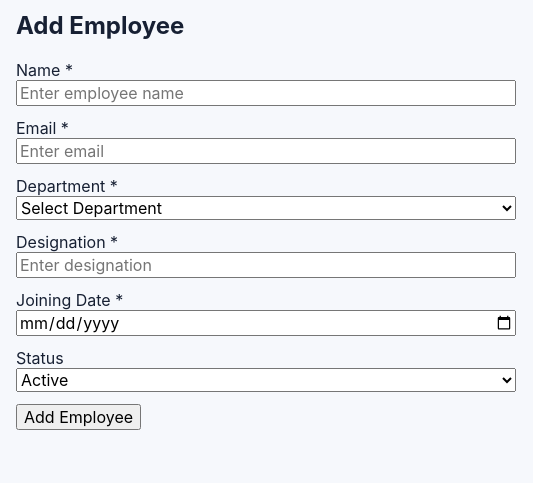
Test: EmployeeForm › adds an employee when all required fields are valid
Type "Ancy" into the field with placeholder "Enter employee name". click: (266, 93)
box: [16,80,516,106]
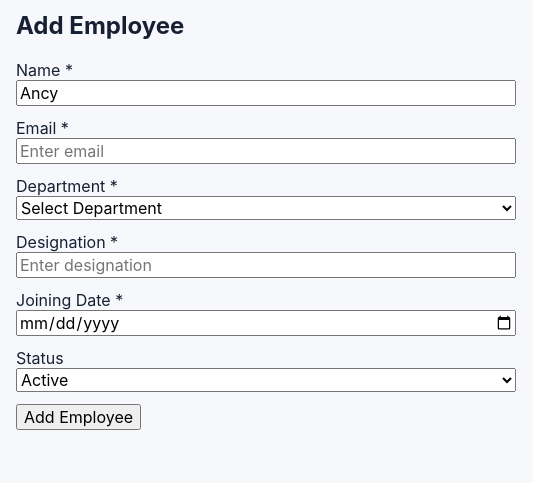
Type "ancy@example.com" into the field with placeholder "Enter email". click: (266, 151)
box: [16,138,516,164]
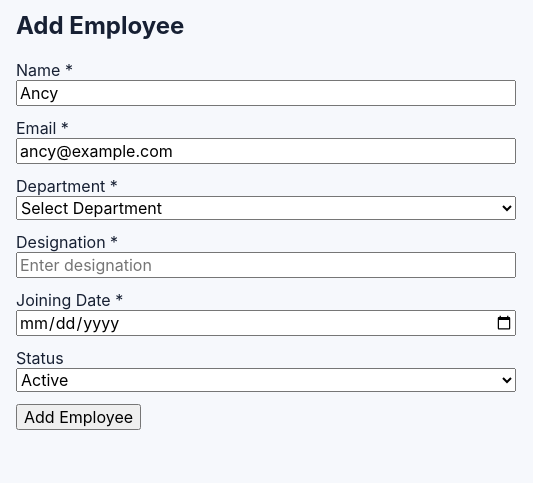
Select "IT" in the 1st dropdown named "department". click: (266, 208)
box: [16,196,516,220]
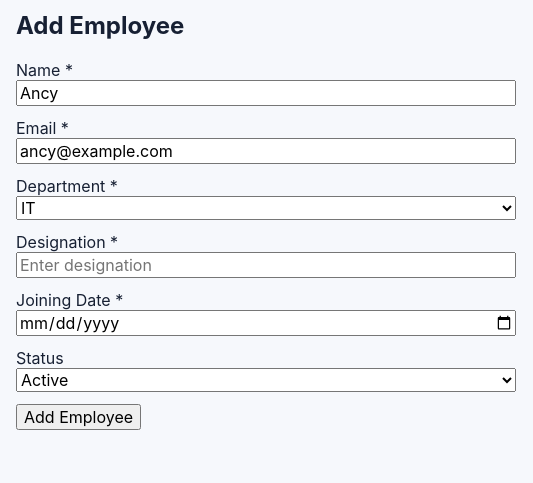
Type "Developer" into the field with placeholder "Enter designation". click: (266, 265)
box: [16,252,516,278]
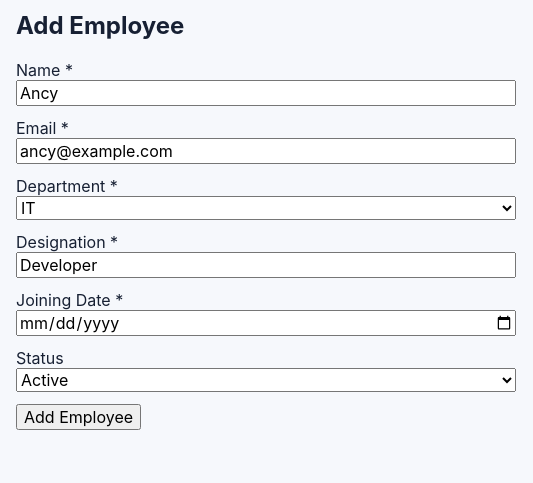
Type "2026-01-15" into the date field named "joiningDate". click: (266, 323)
box: [16,310,516,336]
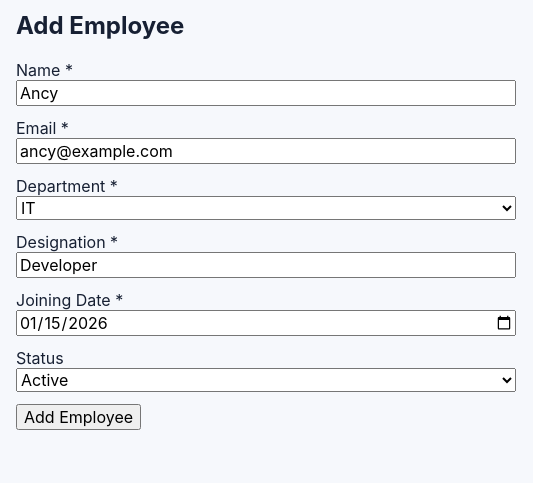
Click the button "Add Employee". click: (79, 417)
box: [16,404,141,430]
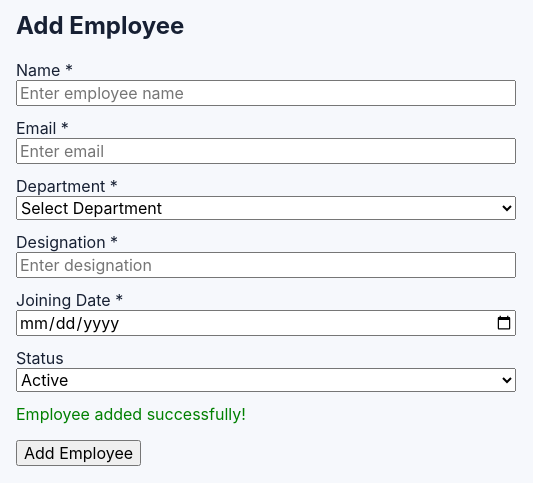
Result: the text "Employee added successfully!" is shown at [16,404,246,424]
